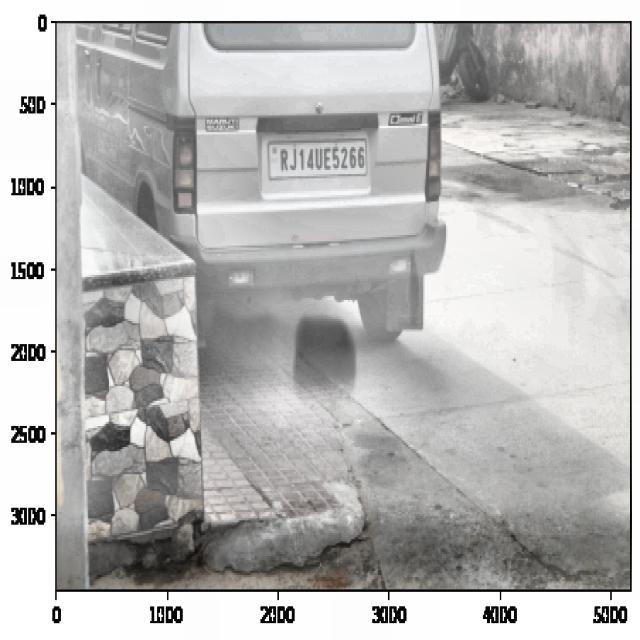license_plate: (273, 144, 368, 178)
